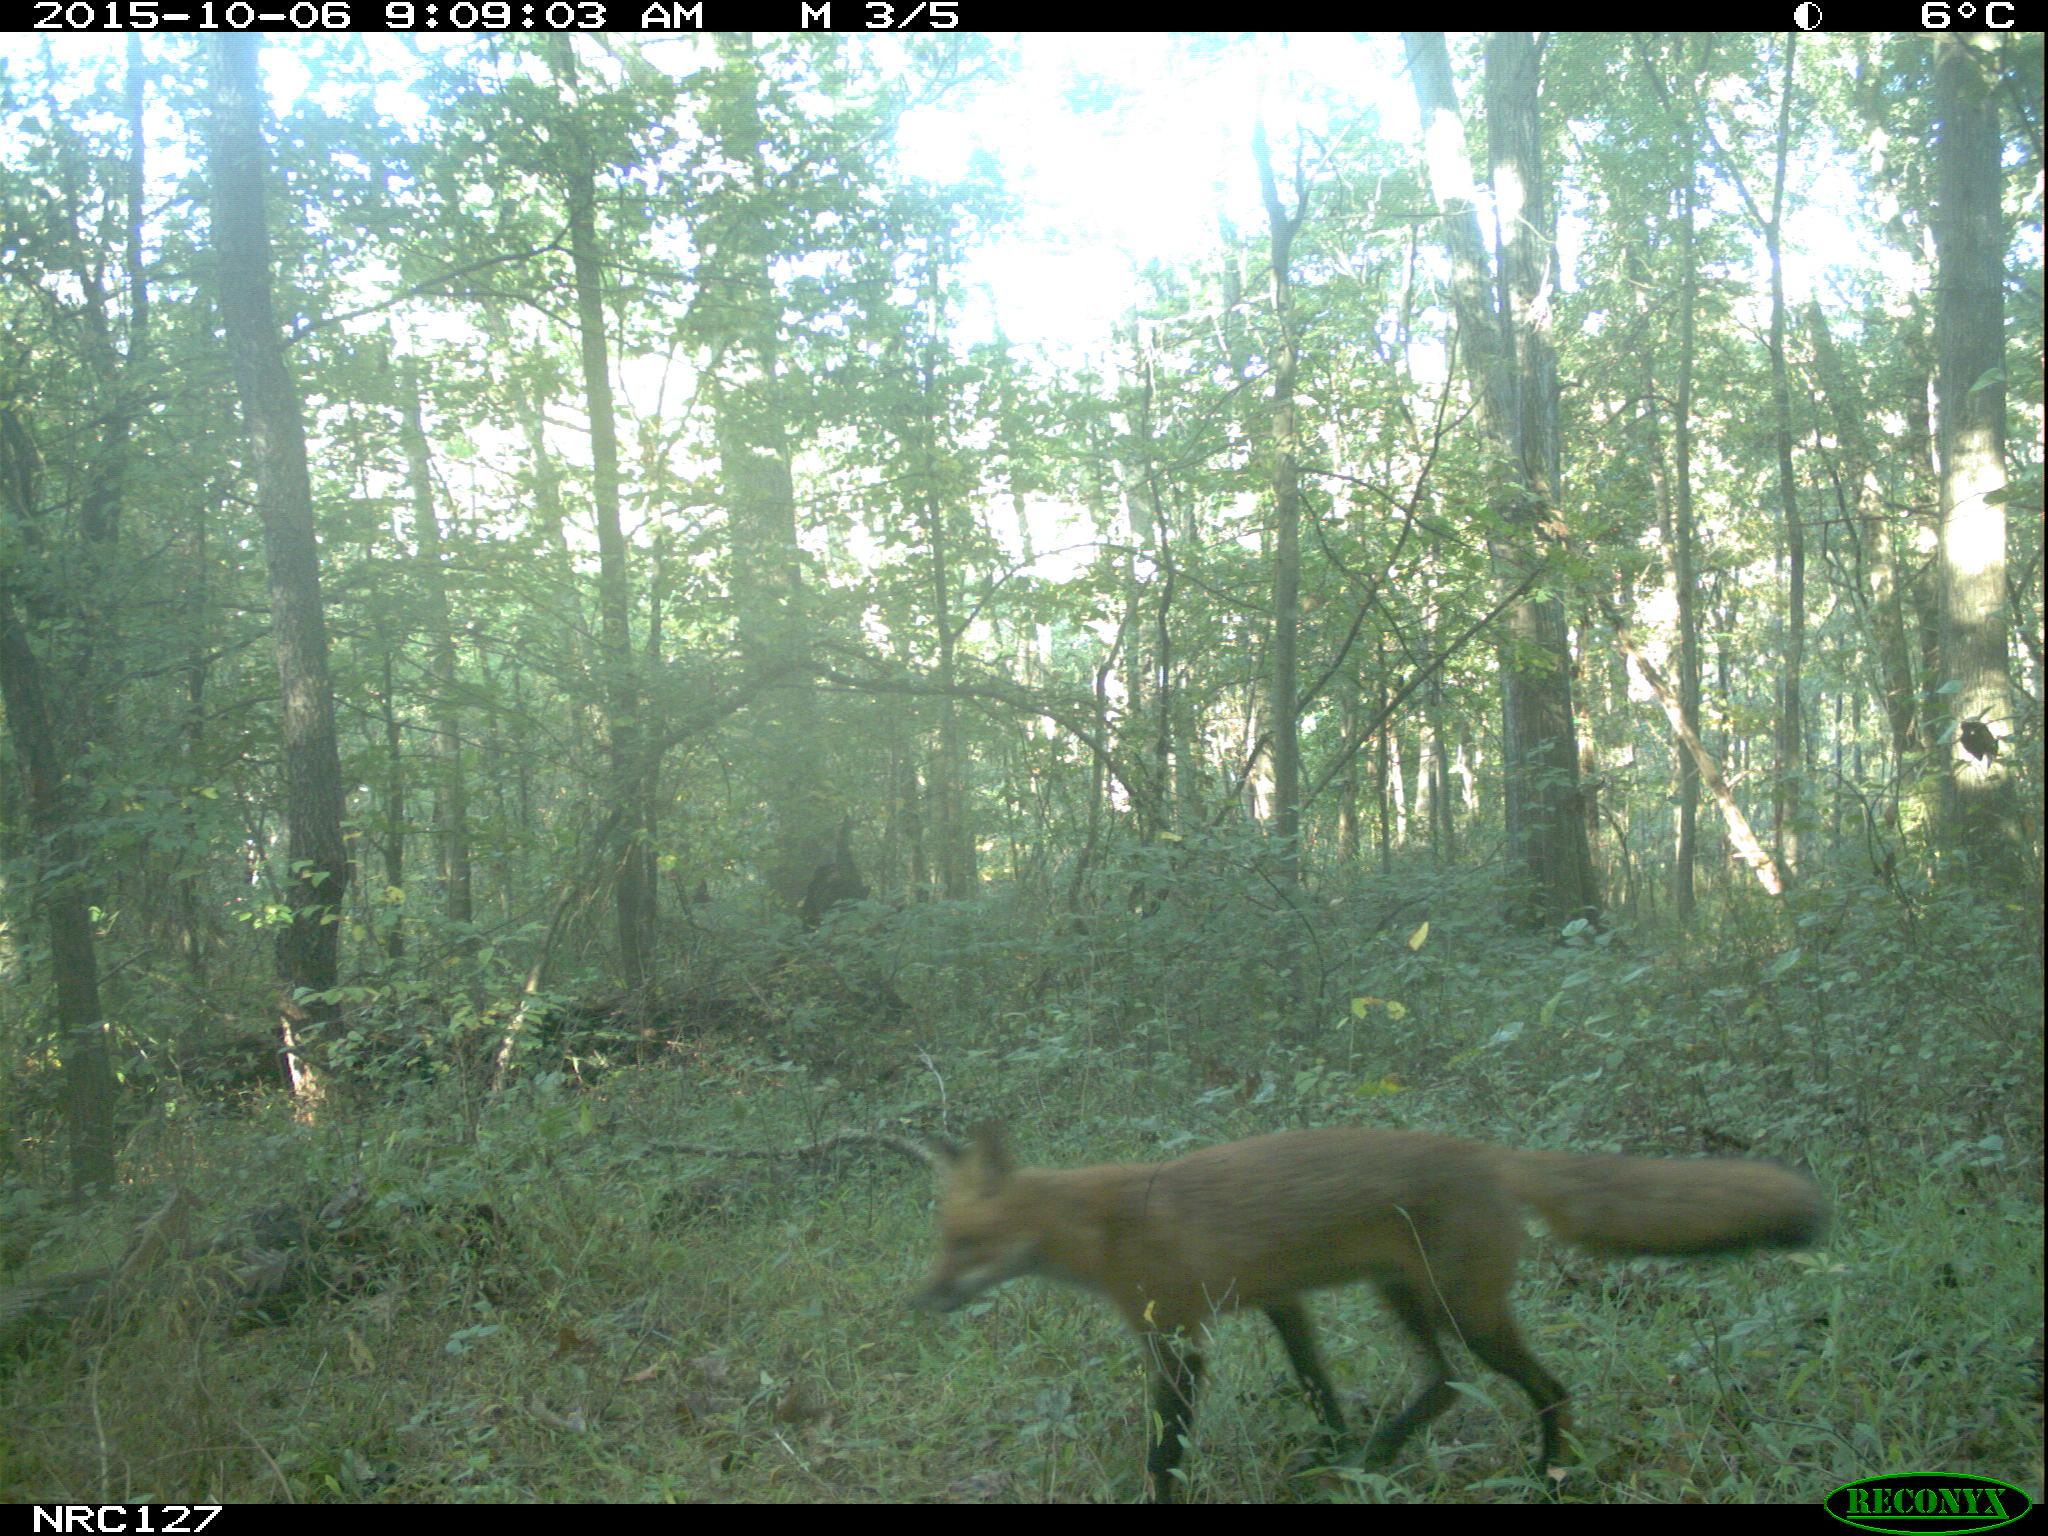Animal: (908, 1112, 1829, 1496)
